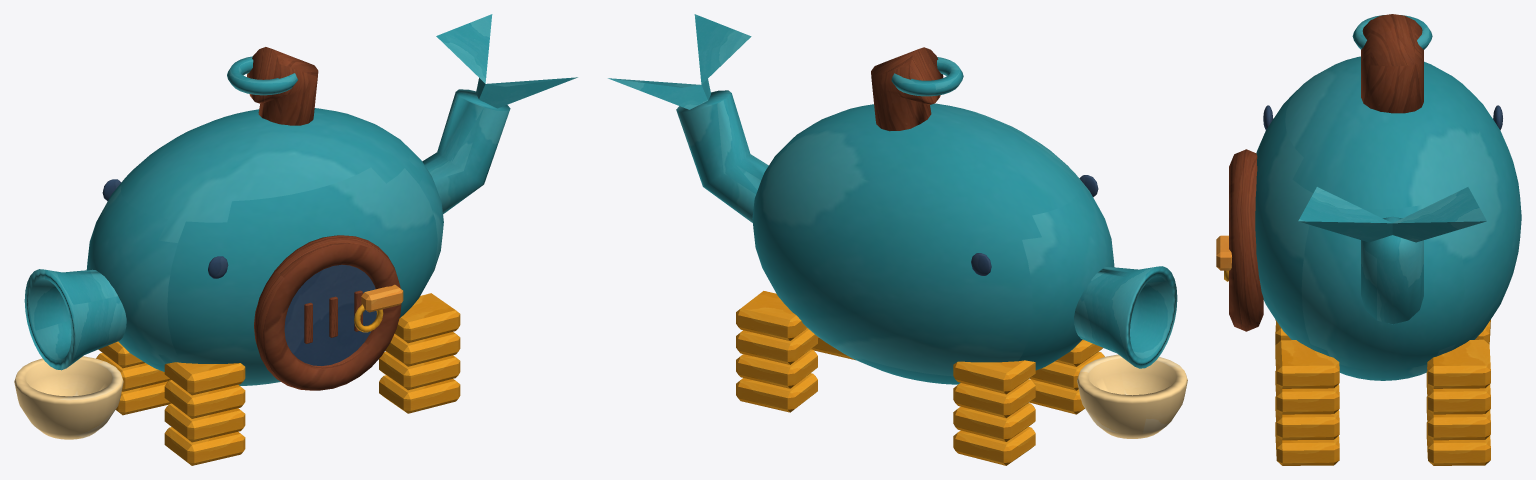
The model's file is revised-05-03.glb.
3 renders of one model, left to right at view 1: azimuth 30°, elevation 25°; view 2: azimuth 150°, elevation 25°; view 3: azimuth 270°, elevation 25°, orthographic. The views are drawn at different scales.
Visible parts, largest first — view 1: whale_stove; view 2: whale_stove; view 3: whale_stove.
Boxes of the visible parts, x1=… form: whale_stove: x1=14, y1=14, x2=577, y2=465; whale_stove: x1=608, y1=14, x2=1187, y2=465; whale_stove: x1=1216, y1=14, x2=1521, y2=465.
Bounding box in the file's own units: 2.08 × 1.33 × 0.97.
Materials: 2 (2 with a texture image).
